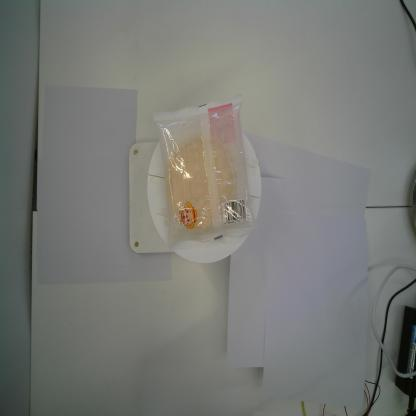Dessert: (152, 95, 258, 250)
